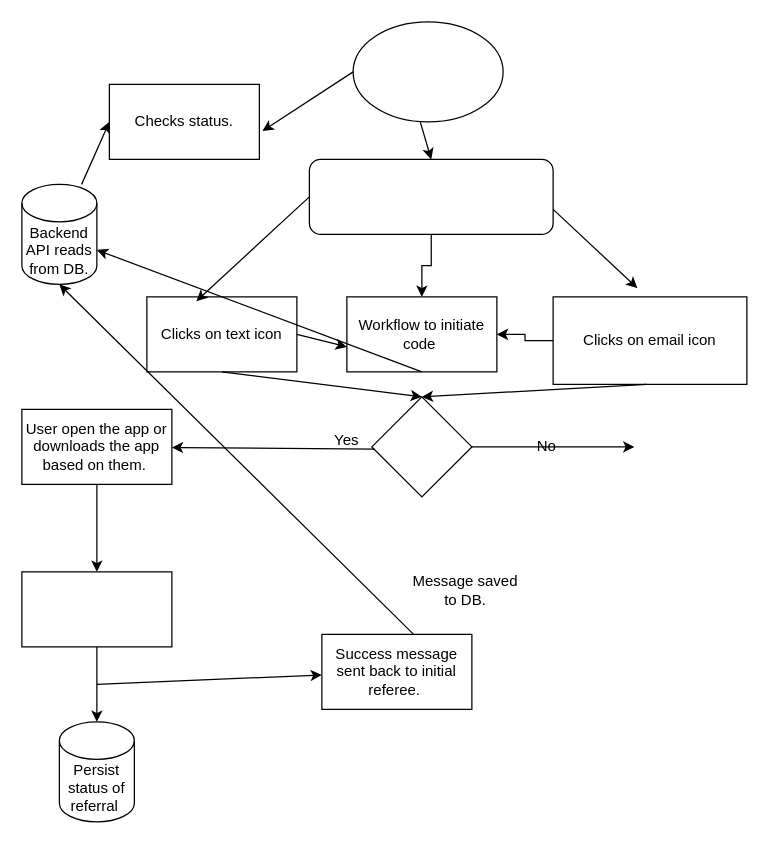
The diagram is 769 pixels wide and 844 high, and some of its shapes have lost their labels. The centre of each missing label's shape, as x and y in pixels:
"Decides to invite someone." goes at point (430, 196).
"Extract the referral Id and create new account." goes at point (96, 609).
"User accepts the invite." goes at point (421, 446).
"User is in referral page." goes at point (427, 71).
